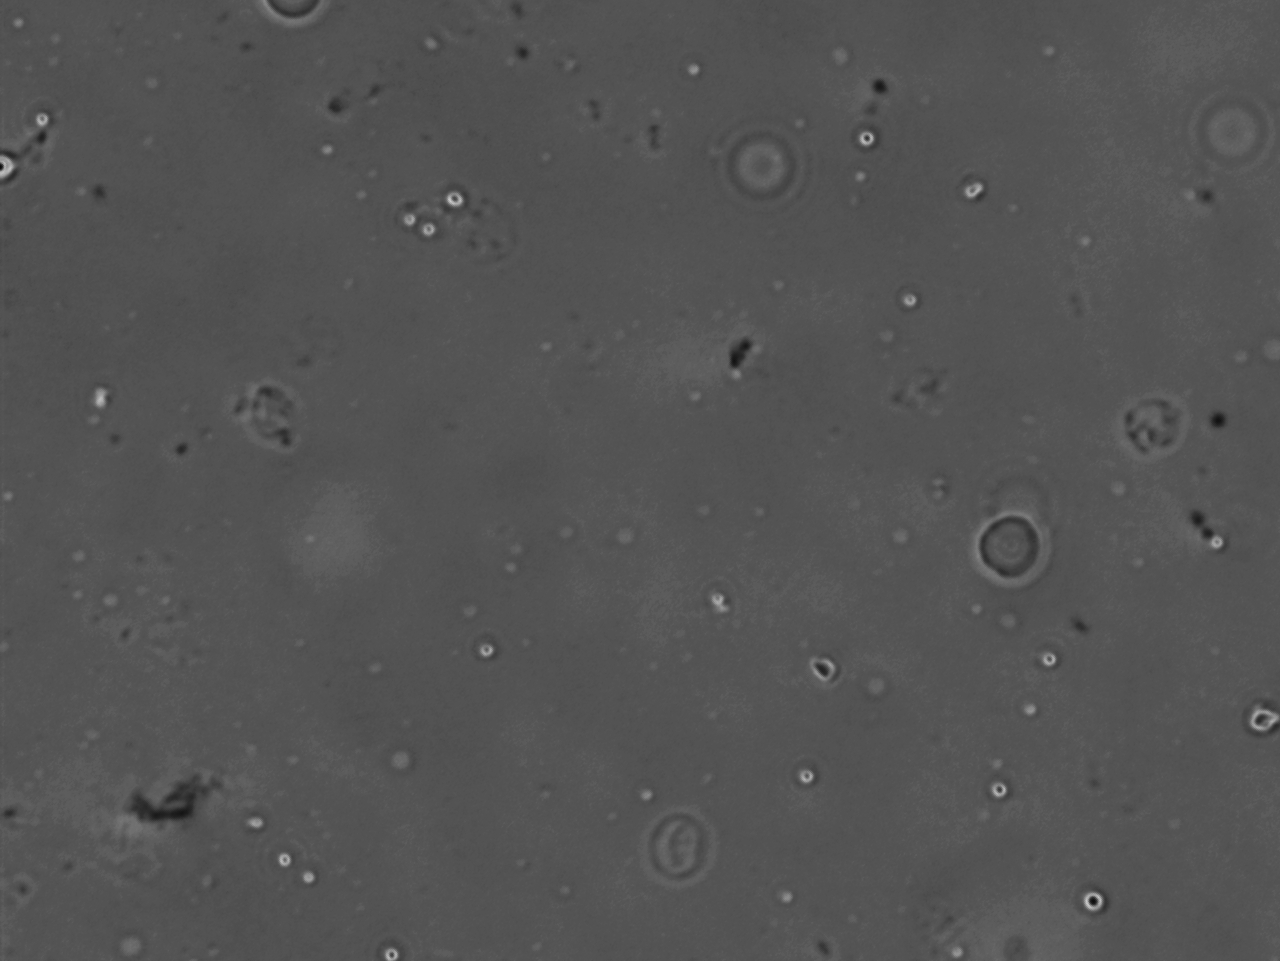depth:0: (970, 501, 1060, 595)
